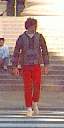person: (11, 16, 51, 120)
